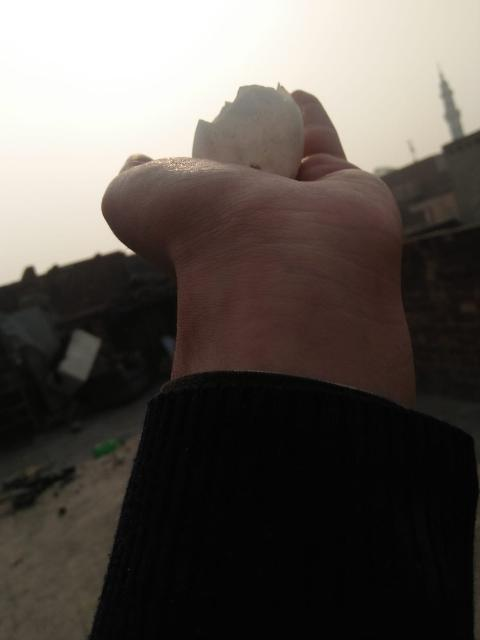Roto: (191, 81, 305, 180)
